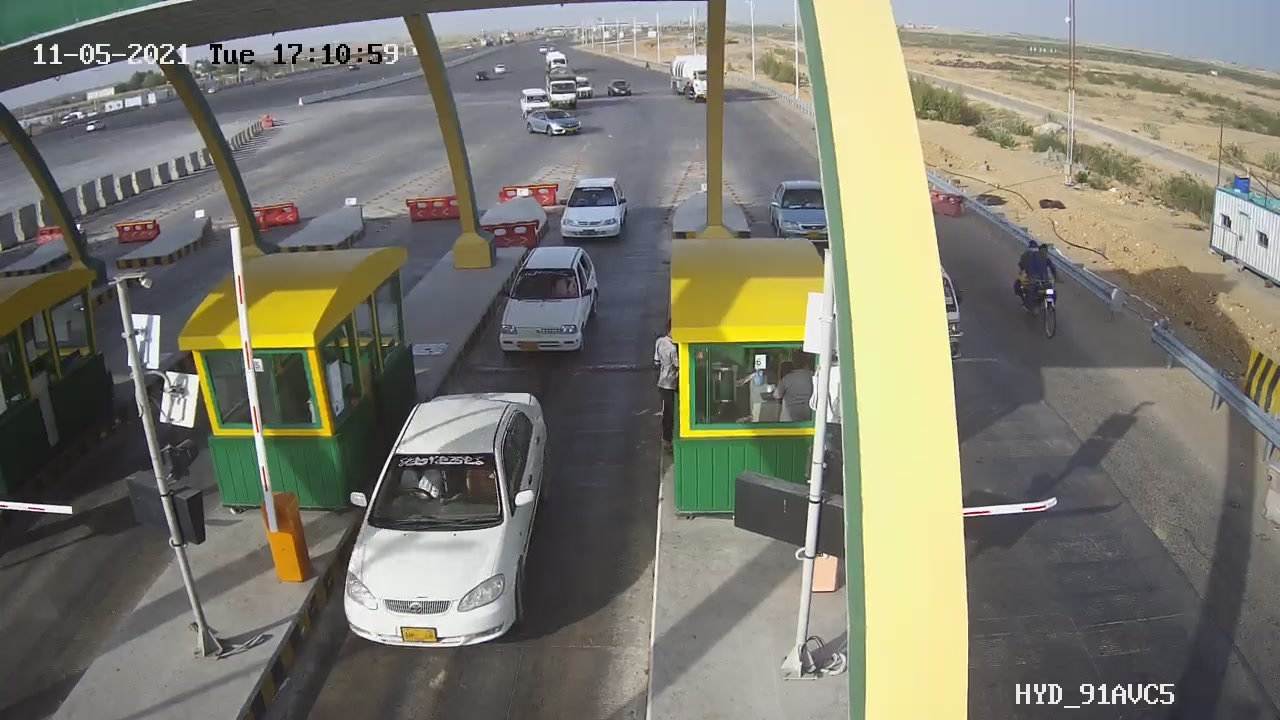F1: (486, 236, 609, 369), (543, 169, 639, 247)
